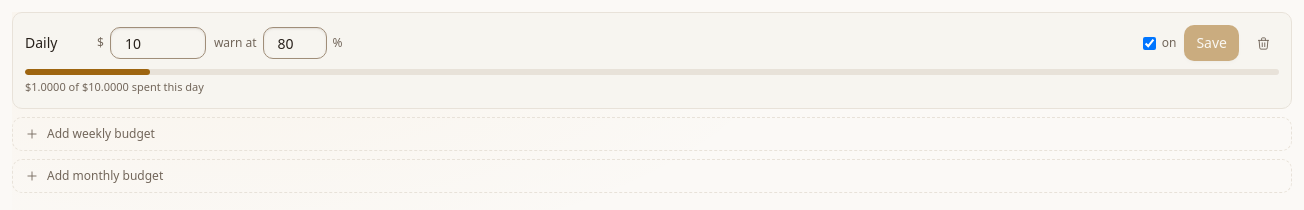
Test: BudgetPanel › deletes a budget via DELETE and drops the row
Click the button named "remove daily budget".
click(1263, 43)  # box [1247,27,1279,59]
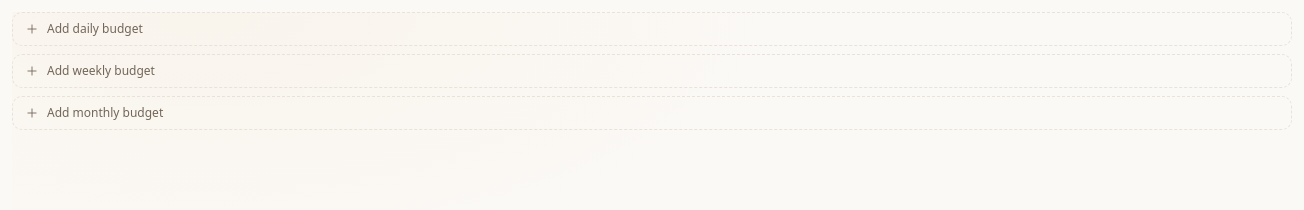
Expected: the element with class "budget-row-daily" is gone
